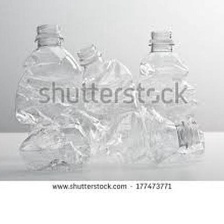bottle: (13, 101, 210, 174), (9, 23, 84, 181), (136, 22, 207, 169), (73, 40, 140, 167)
